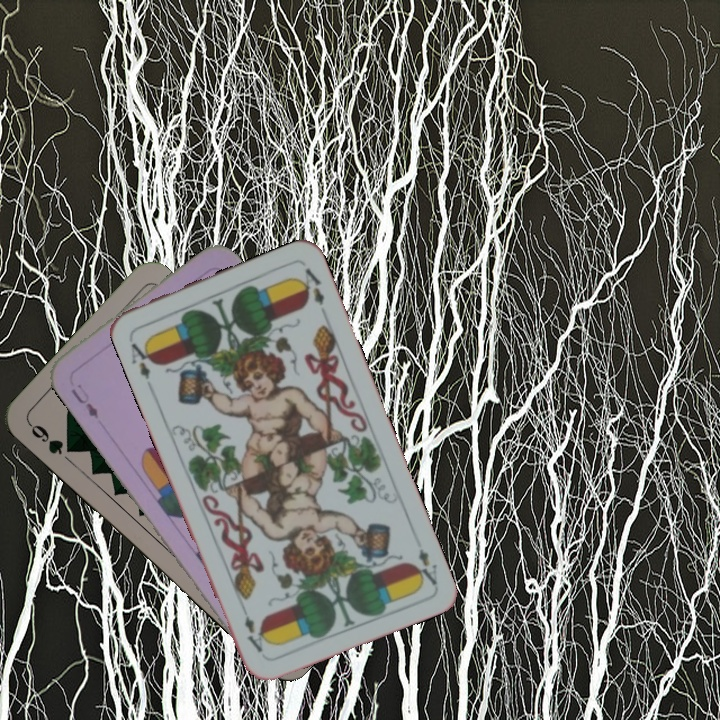EA: (126, 336, 159, 382), (410, 544, 440, 588)
EU: (66, 380, 102, 422)
G9: (24, 419, 79, 458)
